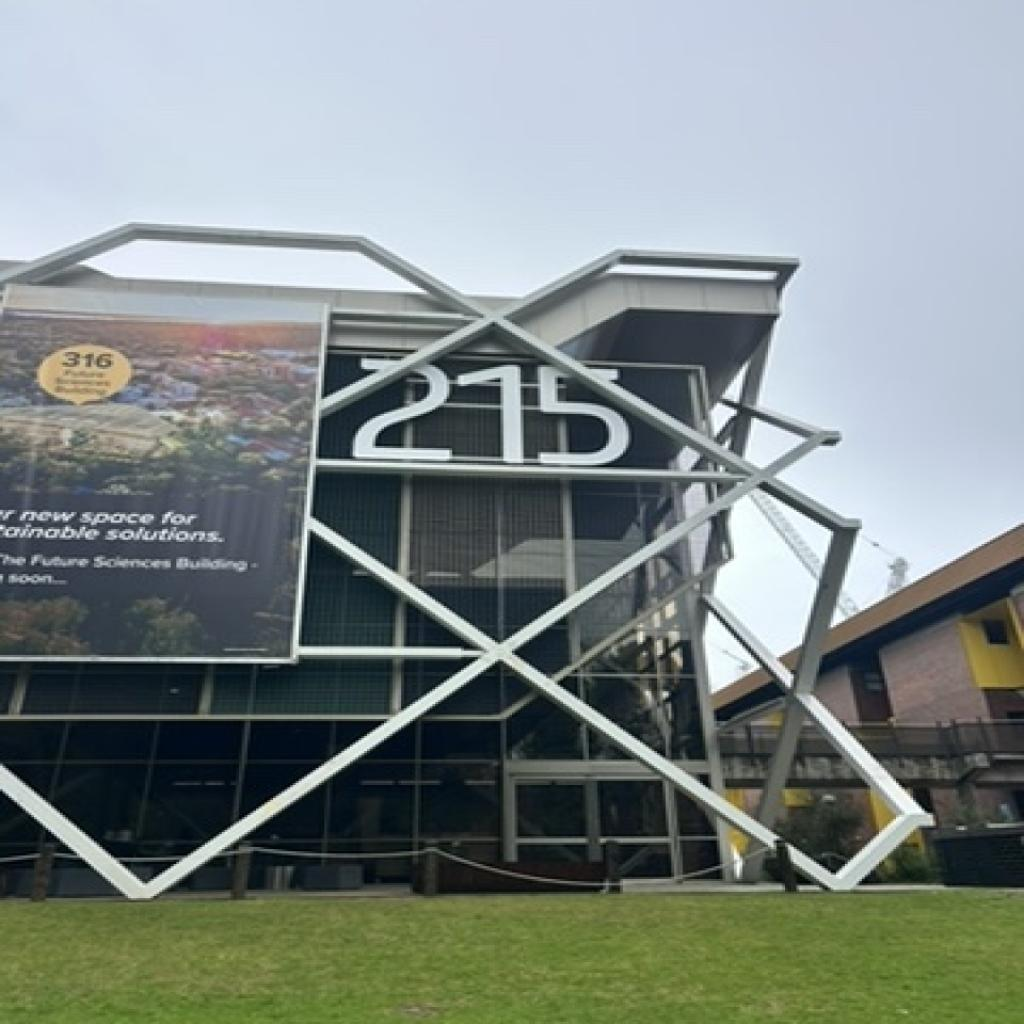BuildingCodes: (349, 346, 637, 478)
